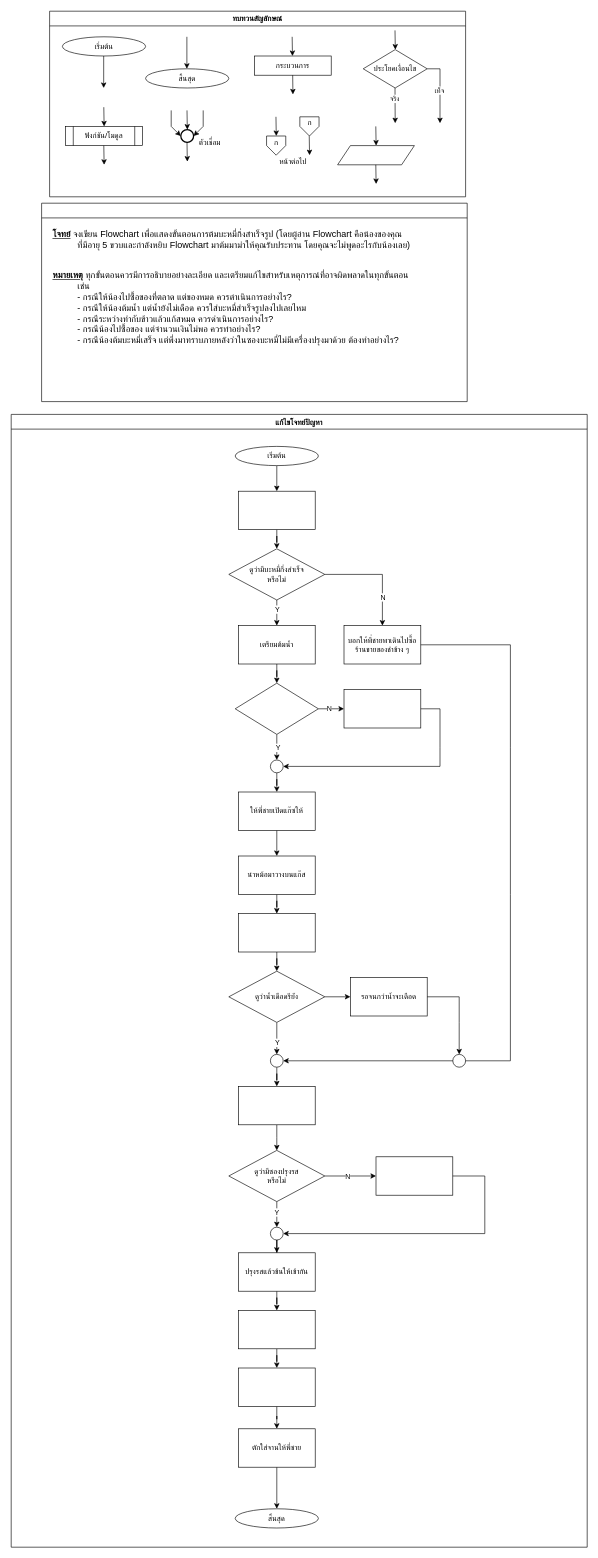
Some shapes in this 598 by 1558 pixel diagram are drawn without their labels. Here are the shapes that lost their labels. From the top down, the box of each, then its label:
(337, 145, 414, 165): แสดงผล/รับค่า
(41, 203, 467, 402): โจทย์ปัญหา
(238, 491, 315, 530): เตรียมอุปกรณ์
(235, 683, 318, 734): ตรวจสอบ ดูว่ามีแก๊ซรึป่าว
(343, 689, 421, 728): ให้พี่ชายเปลี่ยนแก๊ซให้
(238, 913, 315, 952): เทน้ำใส่ในหม้อ
(238, 1086, 315, 1125): นำบะหมี่ใส่ลงไปในหม้อ
(375, 1156, 453, 1195): ใช้เครื่องปรุงที่อยู่ในครัวแทน
(238, 1310, 315, 1349): ต้มทิ้งไว้ 3 นาที
(238, 1367, 315, 1406): ปิดเตาแก๊ส
